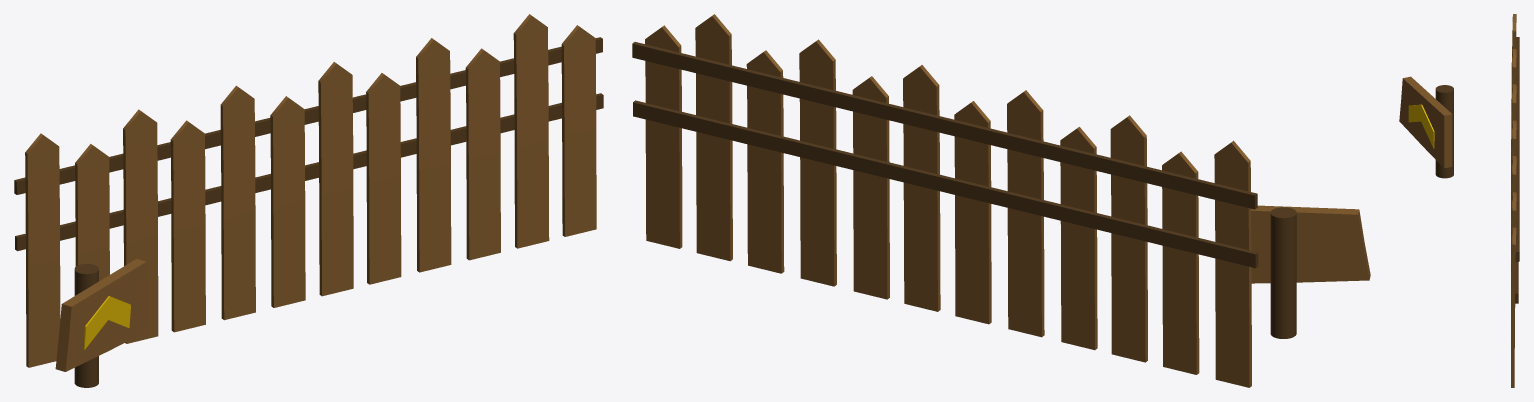
The model's file is RejaSaltar_v001.fbx.
The picture shows the model from 3 angles, left to right: view 1: azimuth 30°, elevation 25°; view 2: azimuth 150°, elevation 25°; view 3: azimuth 270°, elevation 25°; orthographic projection. The views are drawn at different scales.
Visible parts, largest first — view 1: Box002.001, Box011, Cylinder004, Cube.006; view 2: Box002.001, Box011, Cylinder004; view 3: Box002.001, Box011, Cylinder004, Cube.006.
Boxes of the visible parts, x1=… form: Box002.001: x1=14, y1=14, x2=603, y2=367; Box011: x1=55, y1=259, x2=146, y2=371; Cylinder004: x1=74, y1=264, x2=98, y2=387; Cube.006: x1=83, y1=296, x2=130, y2=350; Box002.001: x1=632, y1=14, x2=1258, y2=387; Box011: x1=1251, y1=205, x2=1370, y2=283; Cylinder004: x1=1270, y1=207, x2=1296, y2=338; Box002.001: x1=1511, y1=14, x2=1519, y2=387; Box011: x1=1399, y1=76, x2=1452, y2=168; Cylinder004: x1=1435, y1=85, x2=1453, y2=178; Cube.006: x1=1408, y1=104, x2=1434, y2=148.
Size of the model in its own units: 435 by 153 by 97.28.
